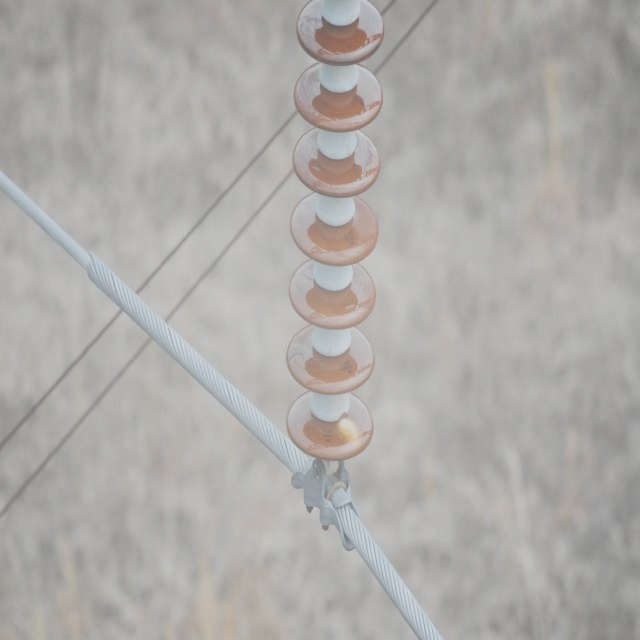insulator: (286, 0, 384, 462)
